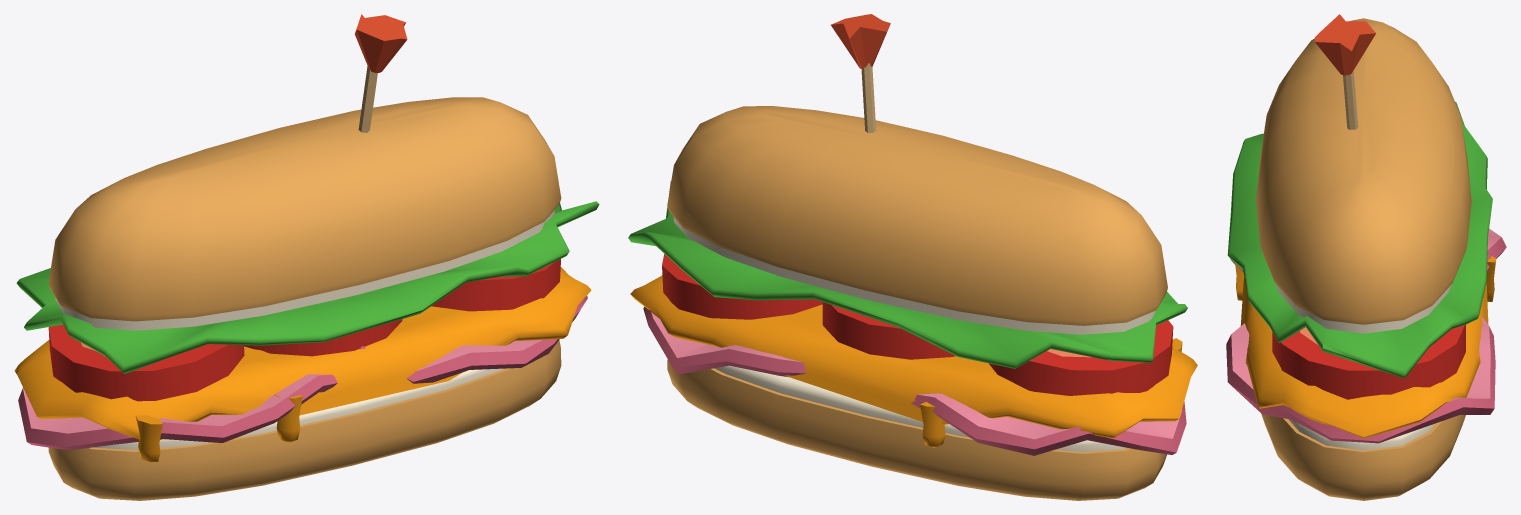
The model's file is Food_PatronChunk.fbx.
3 renders of one model, left to right at view 1: azimuth 30°, elevation 25°; view 2: azimuth 150°, elevation 25°; view 3: azimuth 270°, elevation 25°, orthographic. The views are drawn at different scales.
Parts seen in each view (by area): view 1: CrustTop, Cheese, CrustBottom, LeafDark, Tomato, HamEdge, CrumbTop, Ham, CrumbBottom, PickFrill, Pick; view 2: CrustTop, Cheese, CrustBottom, LeafDark, Tomato, HamEdge, CrumbTop, Ham, CrumbBottom, PickFrill, Pick; view 3: CrustTop, LeafDark, Cheese, CrustBottom, Tomato, HamEdge, PickFrill, Ham, CrumbTop, CrumbBottom, Pick.
Boxes of the visible parts, box(x1,y1,x2,y2) form: CrustTop: box(48, 97, 561, 321); Cheese: box(14, 267, 591, 462); CrustBottom: box(48, 340, 561, 500); LeafDark: box(16, 201, 599, 373); Tomato: box(48, 259, 560, 401); HamEdge: box(18, 296, 587, 450); CrumbTop: box(55, 210, 554, 330); Ham: box(23, 339, 542, 433); CrumbBottom: box(94, 368, 504, 450); PickFrill: box(355, 14, 407, 72); Pick: box(358, 66, 377, 132); CrustTop: box(667, 106, 1167, 325); Cheese: box(630, 275, 1197, 447); CrustBottom: box(667, 359, 1167, 500); LeafDark: box(628, 181, 1187, 368); Tomato: box(662, 254, 1173, 395); HamEdge: box(643, 307, 1186, 455); CrumbTop: box(673, 217, 1161, 334); Ham: box(651, 312, 1181, 439); CrumbBottom: box(715, 365, 1126, 451); PickFrill: box(831, 14, 890, 69); Pick: box(861, 63, 876, 132); CrustTop: box(1256, 18, 1471, 324); LeafDark: box(1227, 102, 1492, 378); Cheese: box(1235, 256, 1496, 438); CrustBottom: box(1261, 413, 1465, 500); Tomato: box(1272, 325, 1465, 399); HamEdge: box(1226, 237, 1506, 443); PickFrill: box(1314, 14, 1375, 75); Ham: box(1231, 228, 1501, 402); CrumbTop: box(1275, 283, 1451, 333); CrumbBottom: box(1288, 419, 1436, 450); Pick: box(1343, 71, 1358, 129).
Size of the model in its own units: 668 by 473 by 301.
